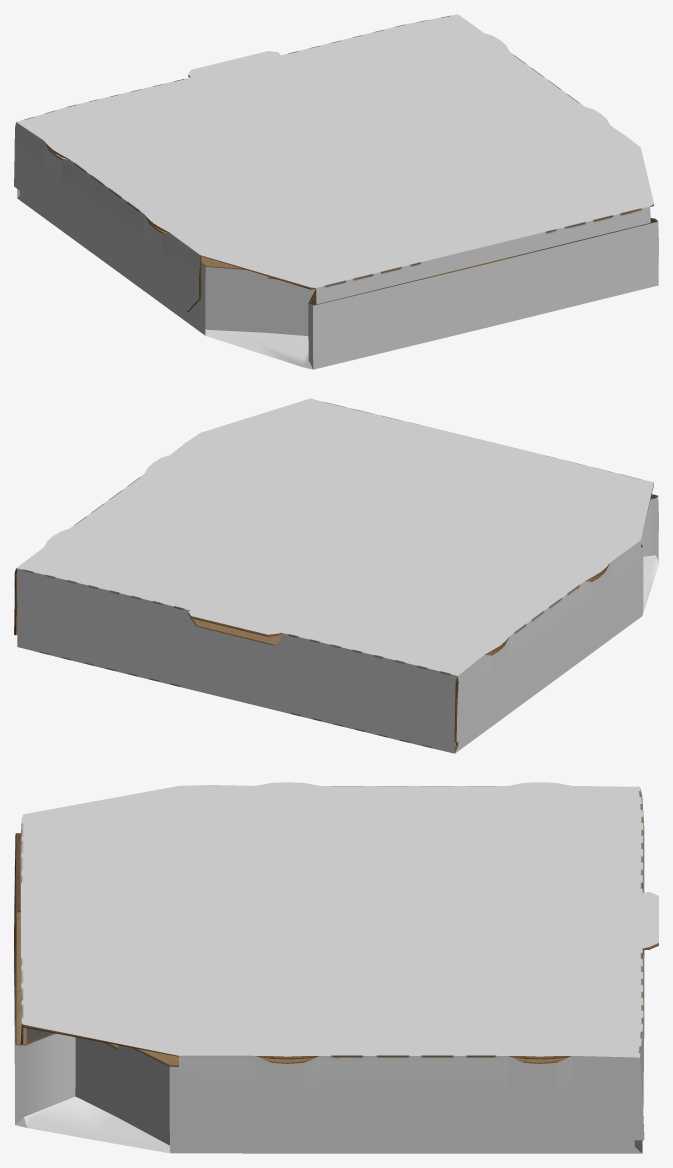
Rendered from Pizza_Box_Blank.glb.
3 views of the same model, one above another, from view 1: azimuth 30°, elevation 25°; view 2: azimuth 150°, elevation 25°; view 3: azimuth 270°, elevation 25° (orthographic). The views are drawn at different scales.
Parts seen in each view (by area): view 1: g; view 2: g; view 3: g.
Boxes of the visible parts, box(x1,y1,x2,y2) form: g: box(14, 14, 658, 369); g: box(14, 398, 658, 753); g: box(14, 782, 658, 1153).
Size of the model in its own units: 200 by 34.36 by 199.
Materials: 1 (1 with a texture image).
